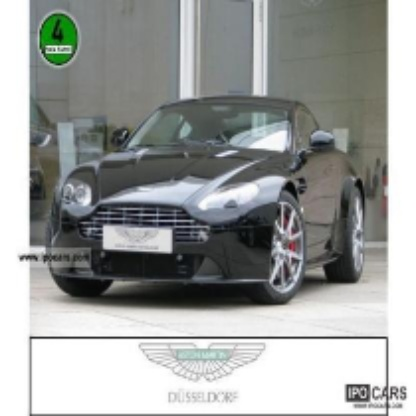Vehicle: (44, 89, 368, 310)
